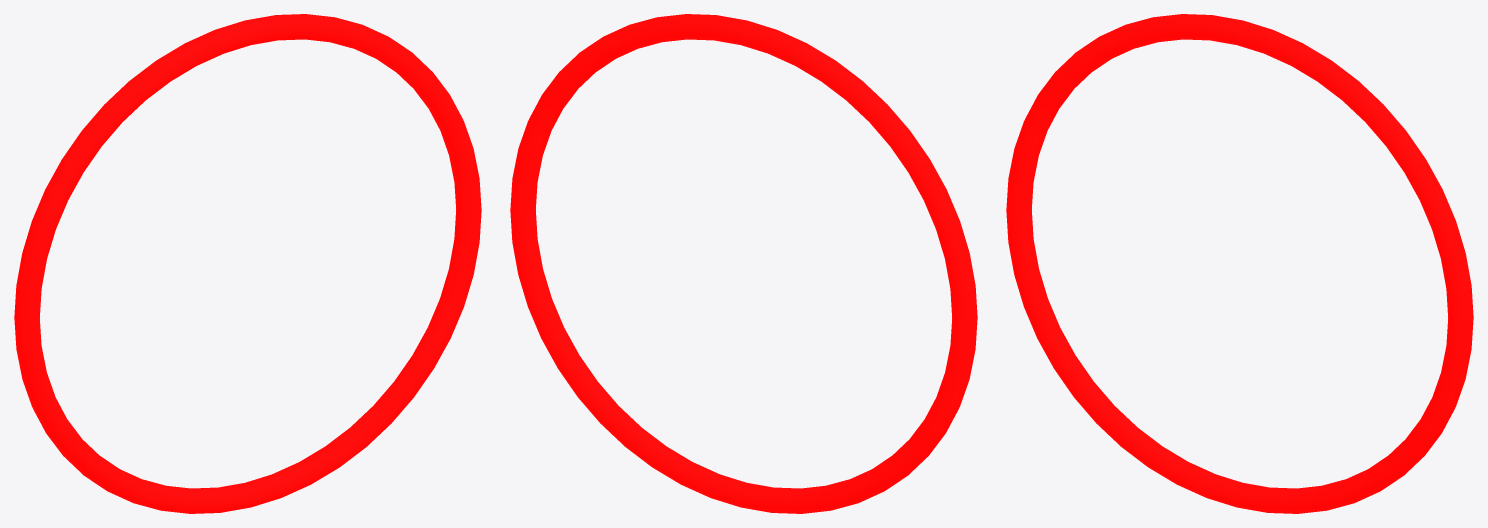
Rendered from machine_warden_sensor_ring_2.glb.
3 views of the same model, side by side, from view 1: azimuth 30°, elevation 25°; view 2: azimuth 150°, elevation 25°; view 3: azimuth 330°, elevation 25° (orthographic).
Visible parts, largest first — view 1: sensor_ring_2; view 2: sensor_ring_2; view 3: sensor_ring_2.
Boxes of the visible parts, x1,y1,x2,y2 form: sensor_ring_2: (14,14,481,513); sensor_ring_2: (510,14,977,513); sensor_ring_2: (1006,14,1473,513).
Size of the model in its own units: 84 by 84 by 4.
